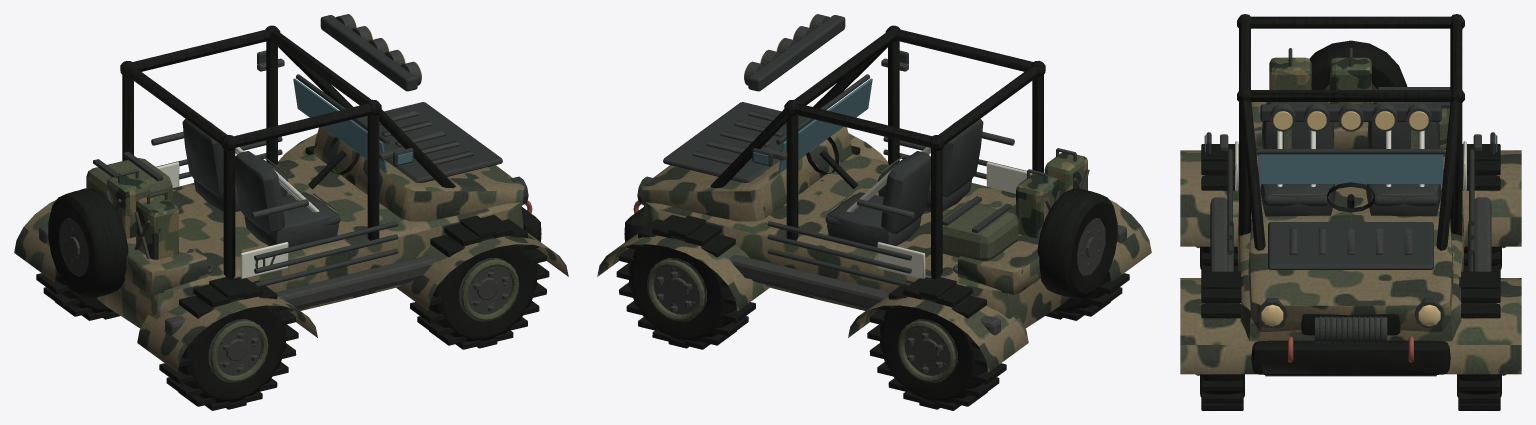
Rendered from buggy.glb.
3 views of the same model, side by side, from view 1: azimuth 30°, elevation 25°; view 2: azimuth 150°, elevation 25°; view 3: azimuth 270°, elevation 25° (orthographic). The views are drawn at different scales.
Parts seen in each view (by area): view 1: part, V2 field detail • vehicles/buggy, Premium details - vehicles/buggy, part.003, part.001, Premium details - Node_2, Premium details - Node_8, Premium details - Node_11; view 2: part, V2 field detail • vehicles/buggy, Premium details - vehicles/buggy, part.004, part.002, Premium details - Node_5, Premium details - Node_11, Premium details - Node_8, part.003; view 3: part, V2 field detail • vehicles/buggy, Premium details - vehicles/buggy, Premium details - Node_5, Premium details - Node_2, Premium details - Node_11, Premium details - Node_8, part.001, part.002.
Boxes of the visible parts, box(x1,y1,x2,y2) form: part: box(14, 25, 568, 372); V2 field detail • vehicles/buggy: box(39, 50, 532, 335); Premium details - vehicles/buggy: box(156, 14, 502, 311); part.003: box(178, 296, 285, 402); part.001: box(429, 235, 536, 341); Premium details - Node_2: box(410, 215, 549, 349); Premium details - Node_8: box(159, 277, 298, 410); Premium details - Node_11: box(36, 271, 120, 320); part: box(597, 25, 1151, 372); V2 field detail • vehicles/buggy: box(633, 50, 1126, 335); Premium details - vehicles/buggy: box(663, 14, 1032, 311); part.004: box(880, 296, 987, 402); part.002: box(629, 235, 736, 341); Premium details - Node_5: box(616, 215, 755, 349); Premium details - Node_11: box(867, 277, 1006, 410); Premium details - Node_8: box(1045, 271, 1129, 320); part.003: box(1052, 276, 1110, 312); part: box(1180, 14, 1521, 375); V2 field detail • vehicles/buggy: box(1204, 48, 1497, 376); Premium details - vehicles/buggy: box(1228, 103, 1473, 271); Premium details - Node_5: box(1458, 271, 1506, 410); Premium details - Node_2: box(1195, 271, 1243, 410); Premium details - Node_11: box(1462, 144, 1505, 272); Premium details - Node_8: box(1196, 144, 1238, 272); part.001: box(1200, 303, 1244, 397); part.002: box(1457, 303, 1501, 397).
Bounding box in the file's own units: 3.44 × 2.01 × 2.26.
Materials: 10 (5 with a texture image).
